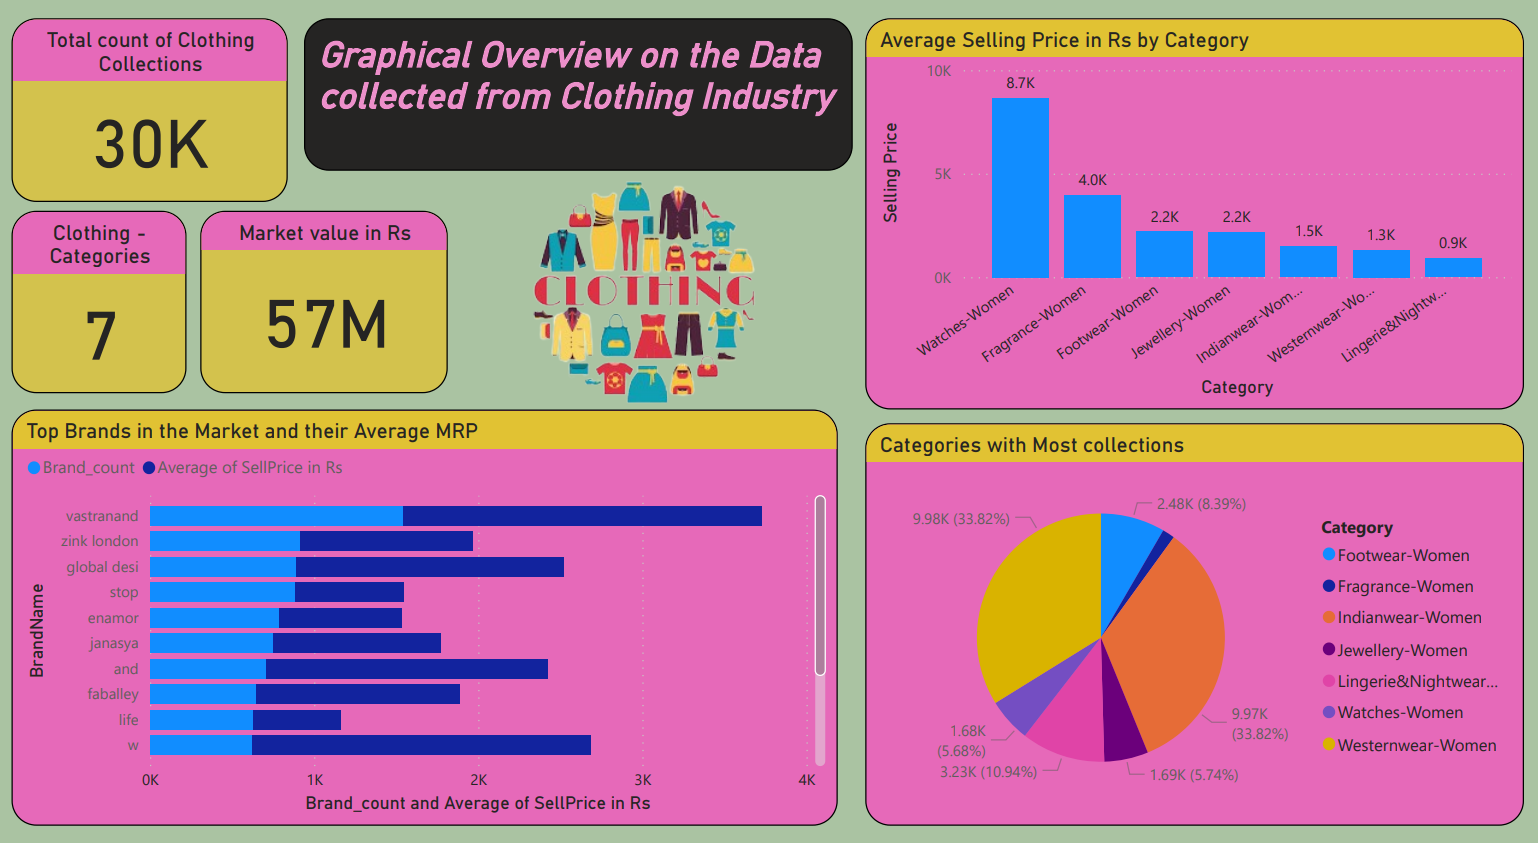

Layout of this report page (visuals, bound fields, positions):
{"tool":"powerbi","page":{"name":"Page 1","canvas":[1280,720],"ordinal":0},"visuals":[{"type":"barChart","title":"Top Brands in the Market and their Average MRP","fields":{"Category":["Sheet1.BrandName"],"Y":["Sheet1.Brand_count","Avg(Sheet1.SellPrice in Rs)"]},"box":[30,370,661.4,332.9],"z":1000},{"type":"clusteredColumnChart","title":"Average Selling Price in Rs by Category","fields":{"Category":["Sheet1.Category"],"Y":["Avg(Sheet1.SellPrice in Rs)"]},"box":[712.9,57.1,527.1,312.9],"z":1001},{"type":"card","title":"Total count of Clothing Collections","fields":{"Values":["Sheet1.Brand_count"]},"box":[30,57.1,221.4,147.1],"z":1002},{"type":"card","title":"Clothing - Categories ","fields":{"Values":["Count(Sheet1.Category)"]},"box":[30,211.4,140,145.7],"z":1003},{"type":"card","title":"Market value in Rs","fields":{"Values":["Sum(Sheet1.SellPrice in Rs)"]},"box":[181.4,211.4,197.1,145.7],"z":1004},{"type":"pieChart","title":"Categories with Most collections","fields":{"Category":["Sheet1.Category"],"Y":["CountNonNull(Sheet1.Category)"]},"box":[712.9,381.4,527.1,321.4],"z":1005},{"type":"textbox","box":[264.3,57.1,438.6,121.4],"z":1006},{"type":"image","box":[325.7,178.6,417.1,191.4],"z":1007}]}

Visuals, with their boxes in screenshot pixels (x1, y1, x2, y2), scaled from the page's 1280x720 canvas onto the 1538x843 screenshot:
"Top Brands in the Market and their Average MRP" barChart: rect(36, 433, 831, 823)
"Average Selling Price in Rs by Category" clusteredColumnChart: rect(857, 67, 1490, 433)
"Total count of Clothing Collections" card: rect(36, 67, 302, 239)
"Clothing - Categories " card: rect(36, 248, 204, 418)
"Market value in Rs" card: rect(218, 248, 455, 418)
"Categories with Most collections" pieChart: rect(857, 447, 1490, 823)
textbox: rect(318, 67, 845, 209)
image: rect(391, 209, 893, 433)
